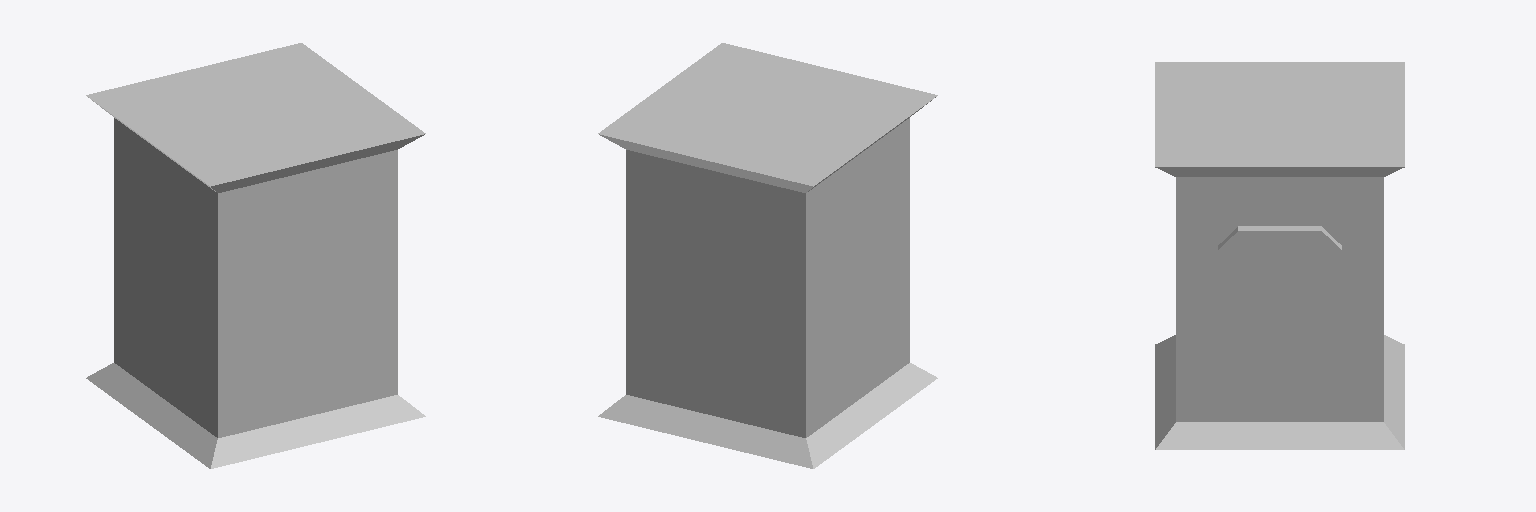
File: pedestal.obj
The picture shows the model from 3 angles: view 1: azimuth 30°, elevation 25°; view 2: azimuth 150°, elevation 25°; view 3: azimuth 270°, elevation 25°; orthographic projection.
Parts seen in each view (by area): view 1: Cube; view 2: Cube; view 3: Cube.
Boxes of the visible parts, x1=… form: Cube: x1=86, y1=43, x2=425, y2=468; Cube: x1=598, y1=43, x2=937, y2=468; Cube: x1=1155, y1=62, x2=1404, y2=449.
Size of the model in its own units: 2.4 by 3 by 2.4.